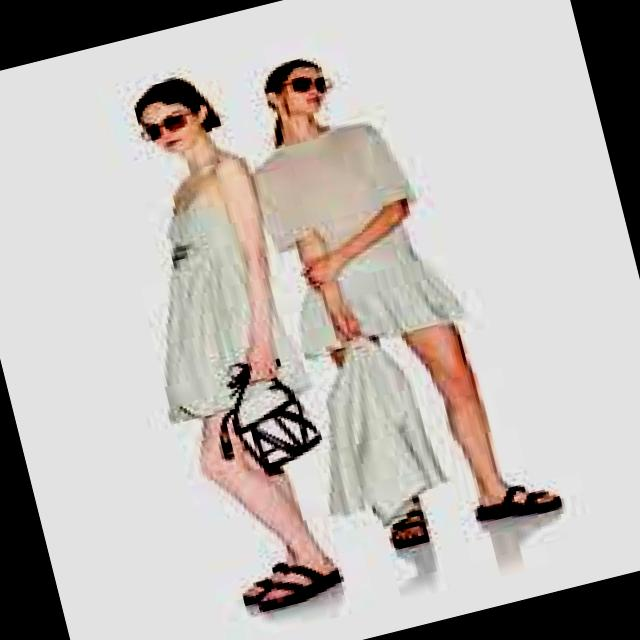dress: (255, 123, 416, 251), (165, 194, 252, 422)
